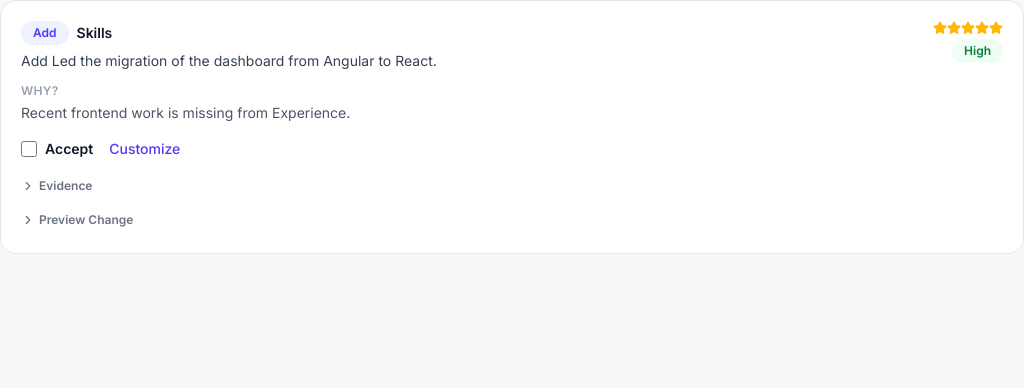
TailoringSuggestionCard: Preview Change comparator › shows an addition-only comparator for an insertion, with an empty original side
What coordinates should you click on to do the following:
click the button "Preview Change"
I would click on:
 (77, 220)
Its box is [21,212,133,228].
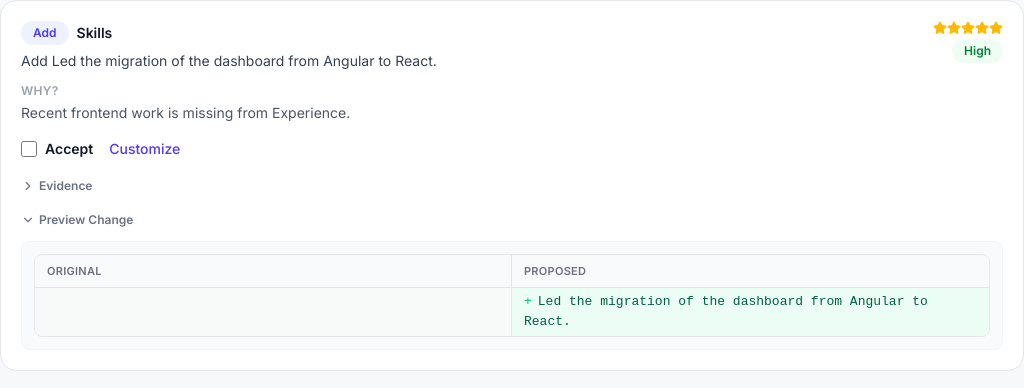
Expected: the text "Led the migration of the dashboard from Angular to React." is shown, [524,294,928,329]
